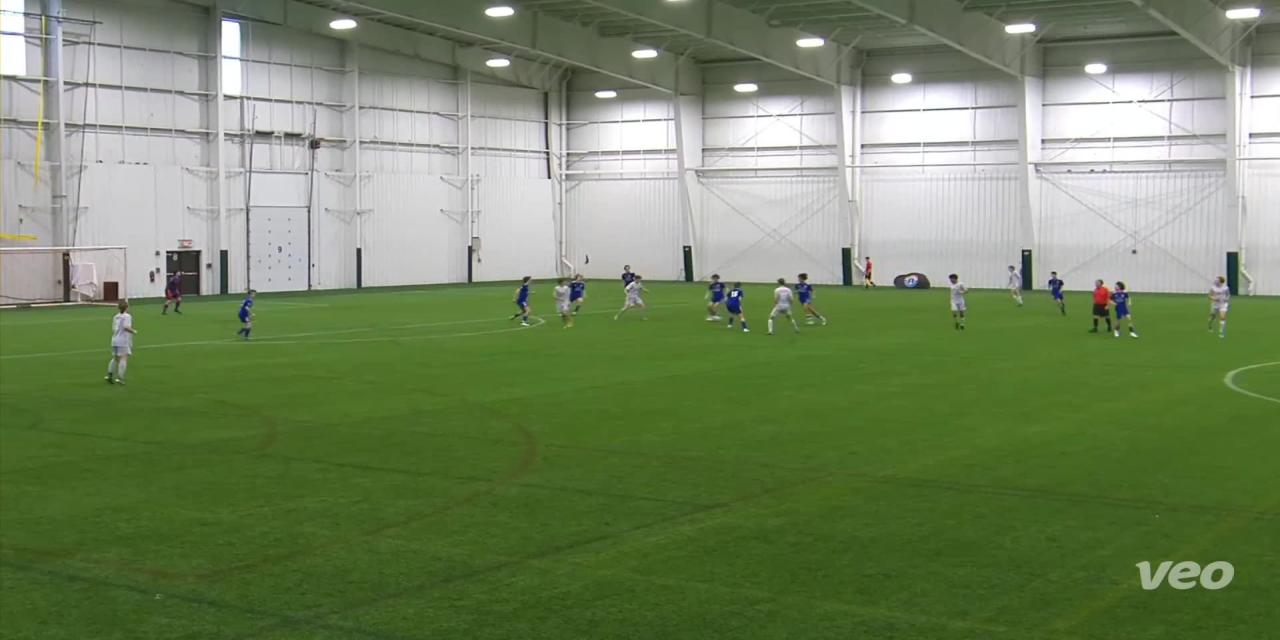goal: (0, 241, 136, 312)
sports ball: (711, 312, 728, 326)
